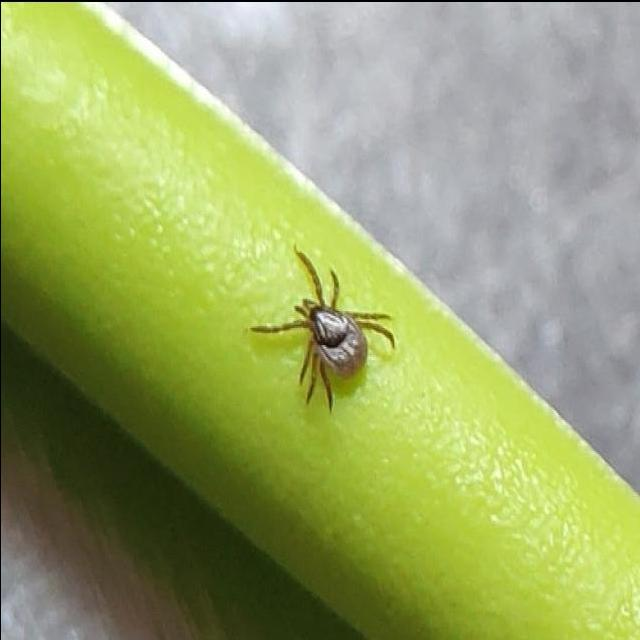Ixodes Ricinus-F: (248, 251, 390, 410)
